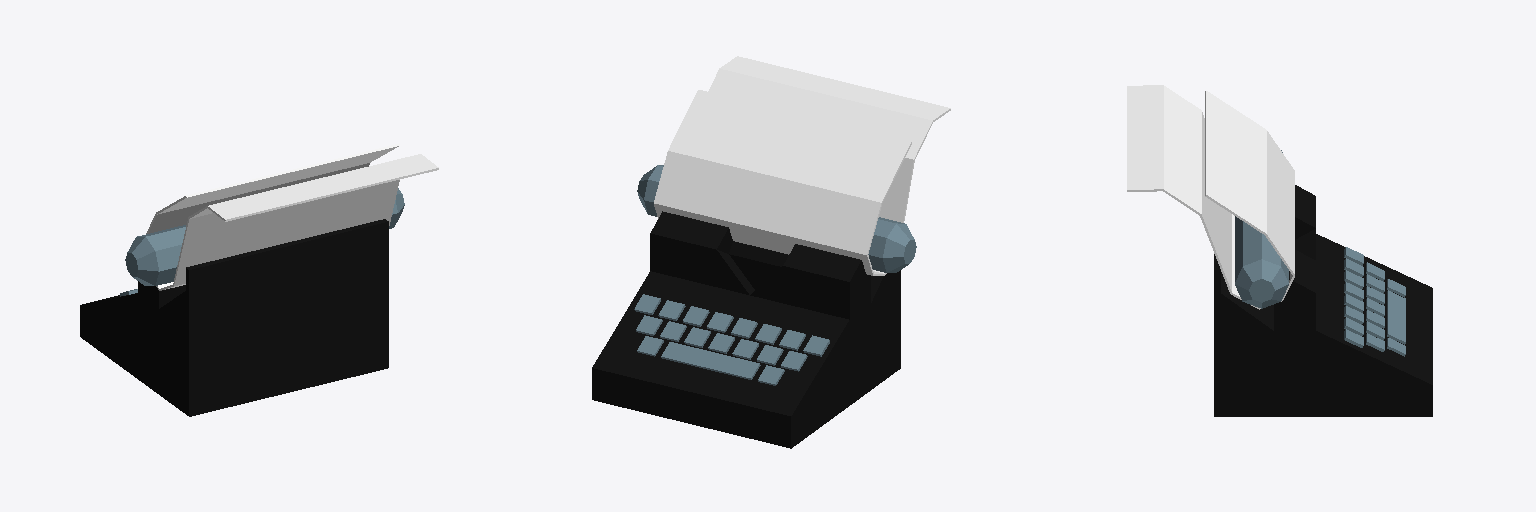
The model's file is Typewriter_01.obj.
3 views of the same model, side by side, from view 1: azimuth 30°, elevation 25°; view 2: azimuth 150°, elevation 25°; view 3: azimuth 270°, elevation 25° (orthographic).
Parts seen in each view (by area): view 1: Cube.025; view 2: Cube.025; view 3: Cube.025.
Part boxes in pixels (bbox=[...]): Cube.025: bbox=[80, 143, 438, 416]; Cube.025: bbox=[592, 56, 950, 448]; Cube.025: bbox=[1127, 85, 1432, 416].
Bounding box in the file's own units: 10.3 × 8.78 × 10.23.